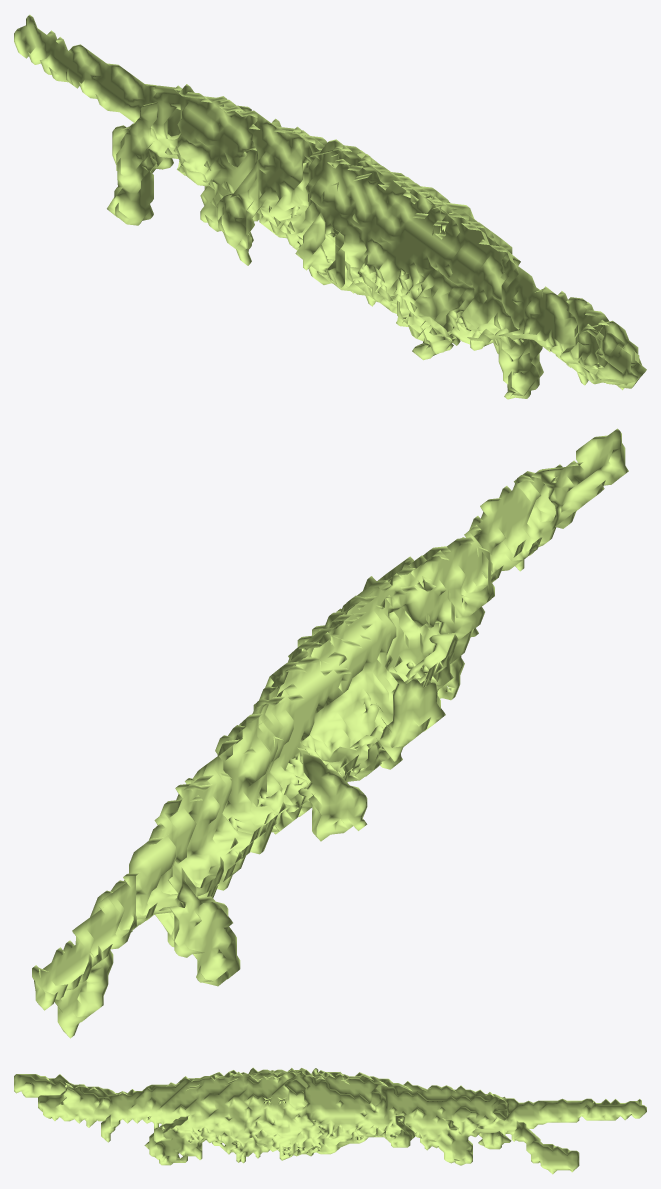
File: osteocyte_82.glb
3 renders of one model, top to bottom at view 1: azimuth 30°, elevation 25°; view 2: azimuth 150°, elevation 25°; view 3: azimuth 270°, elevation 25°, orthographic. The views are drawn at different scales.
Parts seen in each view (by area): view 1: osteocyte_82; view 2: osteocyte_82; view 3: osteocyte_82.
Boxes of the visible parts, bbox=[...] form: osteocyte_82: bbox=[14, 14, 646, 399]; osteocyte_82: bbox=[32, 428, 628, 1038]; osteocyte_82: bbox=[14, 1067, 646, 1174].
Size of the model in its own units: 9.63 by 11.56 by 63.07.
